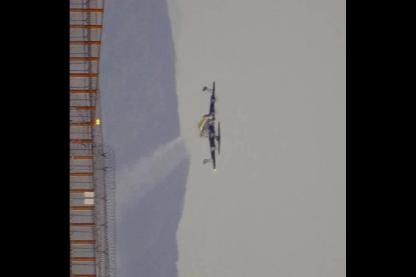Tu95: (198, 80, 221, 170)
